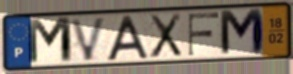A: (104, 13, 151, 62)
F: (186, 11, 221, 58)
M: (26, 16, 76, 67), (218, 7, 267, 59)
V: (69, 15, 109, 63)
X: (148, 12, 184, 60)
